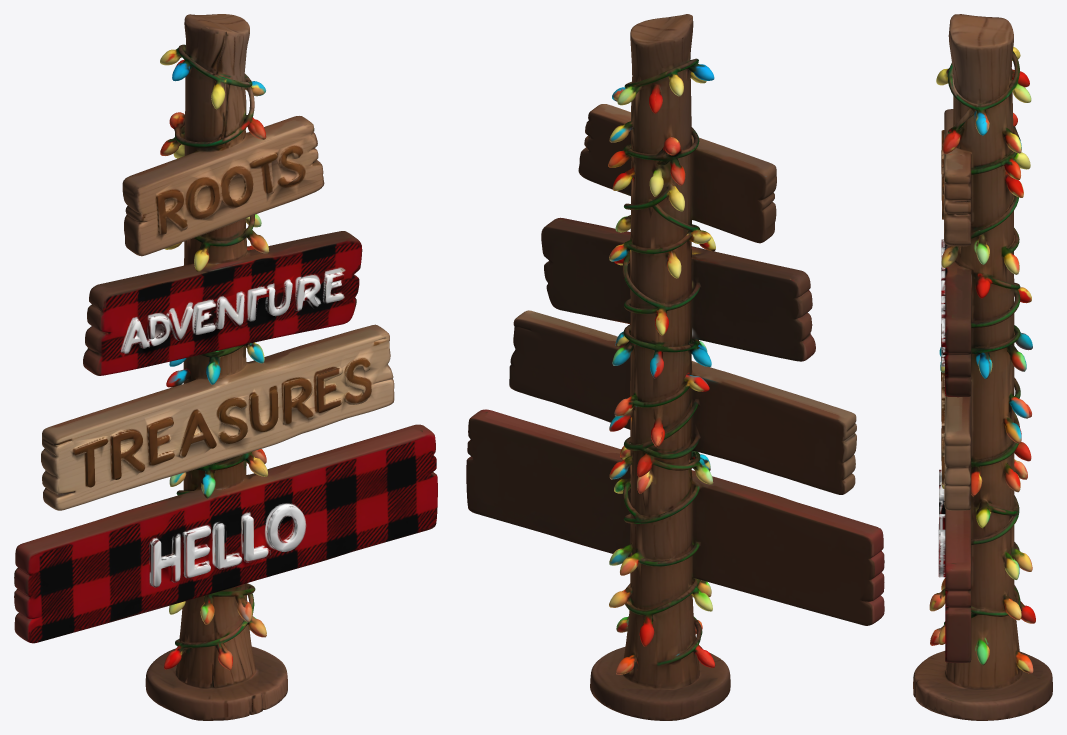
Rendered from signpost.glb.
3 views of the same model, side by side, from view 1: azimuth 30°, elevation 25°; view 2: azimuth 150°, elevation 25°; view 3: azimuth 270°, elevation 25° (orthographic).
Parts seen in each view (by area): view 1: node_0; view 2: node_0; view 3: node_0.
Part boxes in pixels (x1,y1,x2,y2): node_0: [14, 14, 437, 720]; node_0: [466, 14, 884, 720]; node_0: [913, 14, 1052, 720].
Bounding box in the file's own units: 0.7543 × 1.18 × 0.2233.
1 material, 1 textured.
